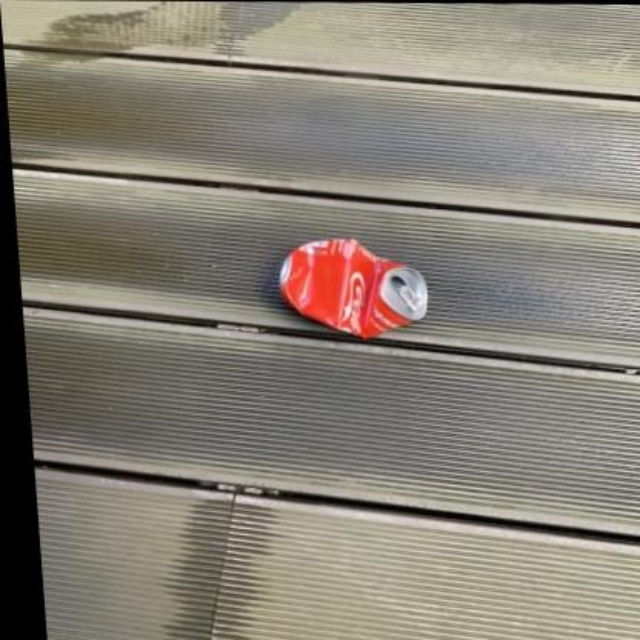trash: (280, 238, 426, 337)
